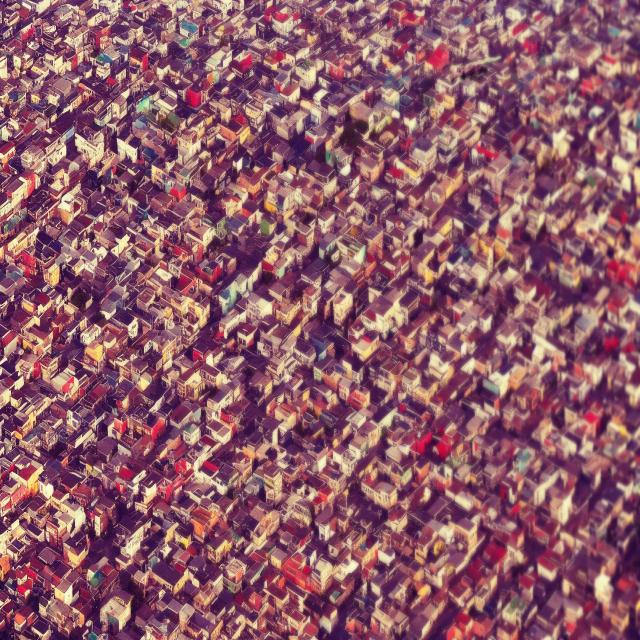airplane: (1, 1, 639, 638), (450, 55, 500, 77)
